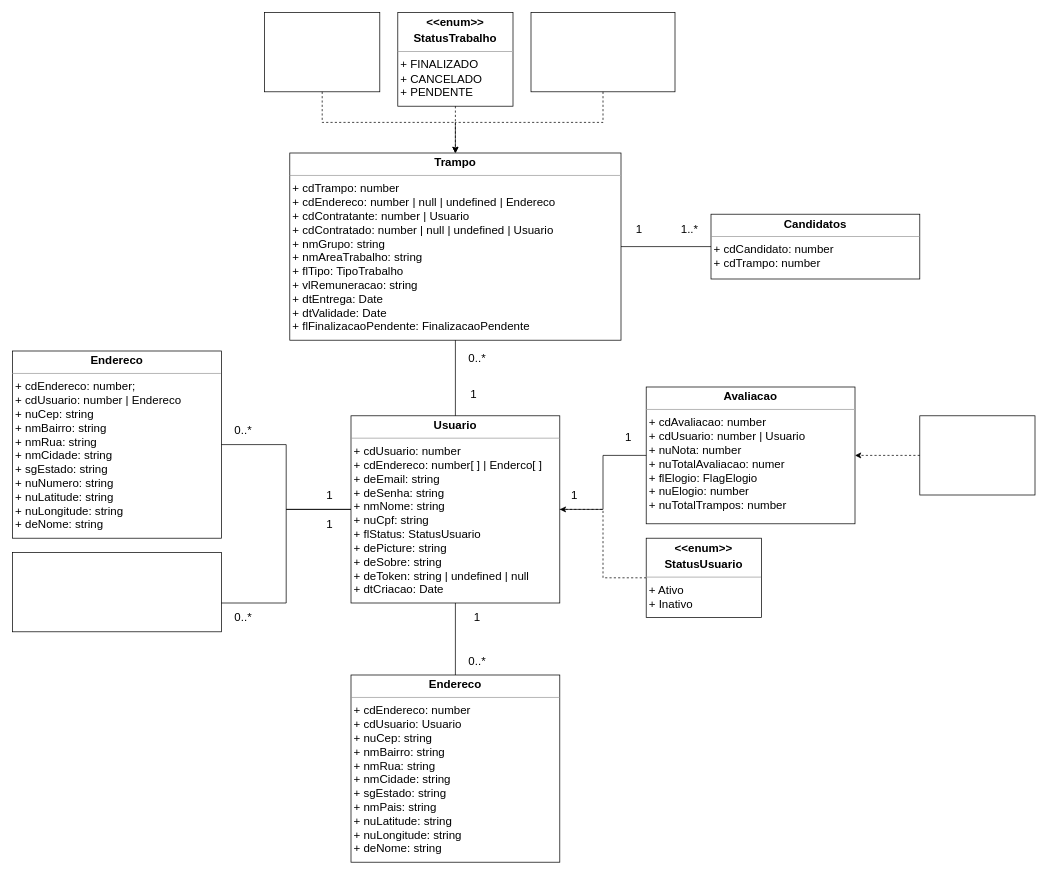
Image size: 1048x875. Some labels were removed from this diagram. The box of each missing label's shape, as (x1, y1, x2, y2) in pixels:
<<enum >> FinalizacaoPendente + SIM + NAO: (530, 12, 675, 92)
<<enum >> FlagElogio + NENHUM: (919, 415, 1035, 495)
<<enum >> TipoTrabalho + ONLINE + PRESENCIAL: (264, 12, 380, 92)
Denuncia + cdDenuncia: number + cdUsuario: number + deMensagem: string: (12, 552, 221, 632)
